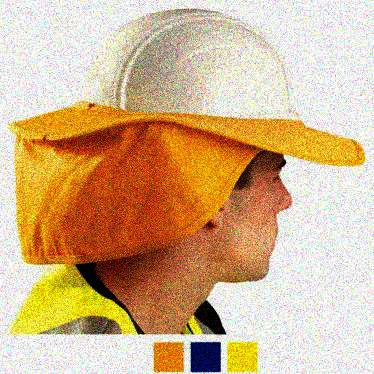helmet: (66, 5, 367, 288)
